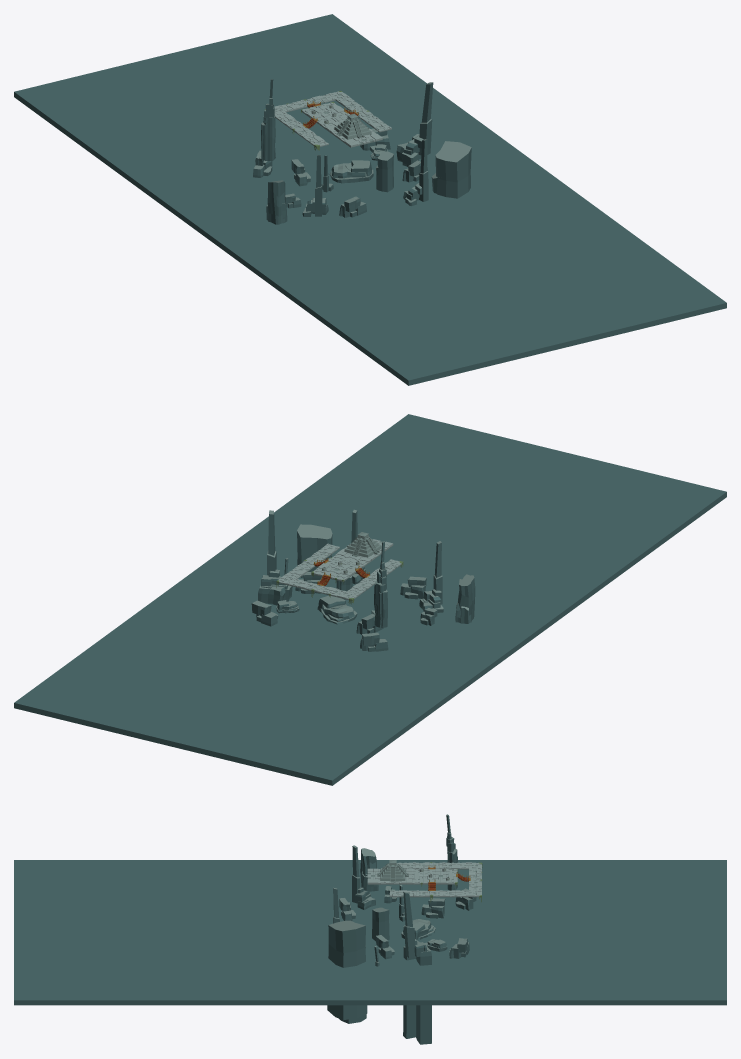
File: map_v19.fbx
The picture shows the model from 3 angles, top to bottom: view 1: azimuth 30°, elevation 25°; view 2: azimuth 150°, elevation 25°; view 3: azimuth 270°, elevation 25°; orthographic projection. The views are drawn at different scales.
Parts seen in each view (by area): view 1: background, basse_plateforme_stone_IMOBILE, haute_plateforme_stone; view 2: background, basse_plateforme_stone_IMOBILE, haute_plateforme_stone; view 3: background, basse_plateforme_stone_IMOBILE, haute_plateforme_stone.
Part boxes in pixels (x1=…): background: x1=14, y1=14, x2=726, y2=385; basse_plateforme_stone_IMOBILE: x1=274, y1=91, x2=391, y2=146; haute_plateforme_stone: x1=302, y1=102, x2=382, y2=147; background: x1=14, y1=414, x2=726, y2=785; basse_plateforme_stone_IMOBILE: x1=278, y1=543, x2=401, y2=599; haute_plateforme_stone: x1=313, y1=539, x2=393, y2=581; background: x1=14, y1=814, x2=726, y2=1044; basse_plateforme_stone_IMOBILE: x1=389, y1=862, x2=481, y2=896; haute_plateforme_stone: x1=367, y1=868, x2=457, y2=884.
Size of the model in its own units: 12395 by 6988 by 26600.
